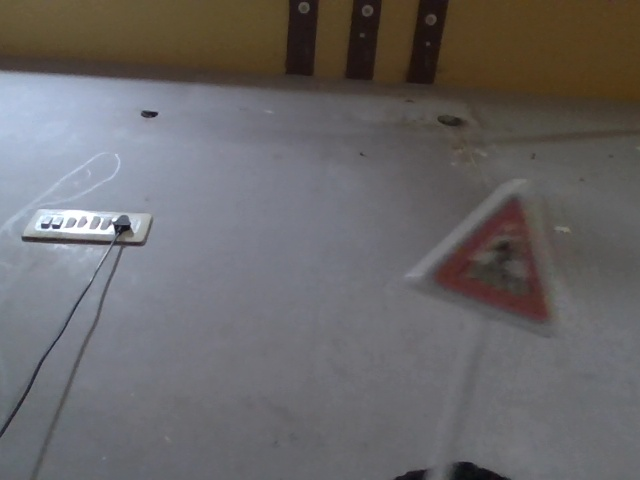crossing: (391, 175, 568, 336)
